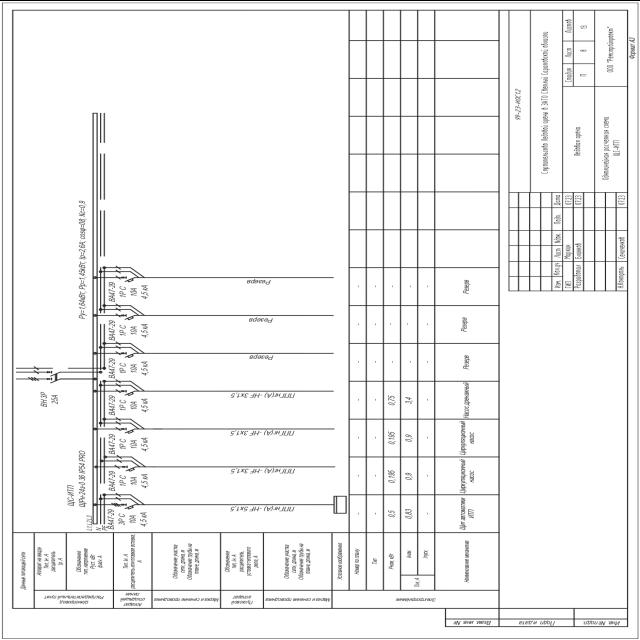-: (106, 393, 150, 418), (106, 318, 150, 342), (108, 280, 152, 304), (106, 468, 150, 492), (106, 430, 150, 454), (105, 506, 148, 530), (107, 355, 150, 379), (76, 449, 90, 507), (39, 390, 60, 408)
QF: (120, 388, 136, 396), (120, 426, 136, 434), (121, 464, 137, 472), (120, 312, 136, 320), (120, 274, 136, 282), (120, 349, 136, 357), (120, 502, 137, 509)
QS: (46, 369, 61, 383)
